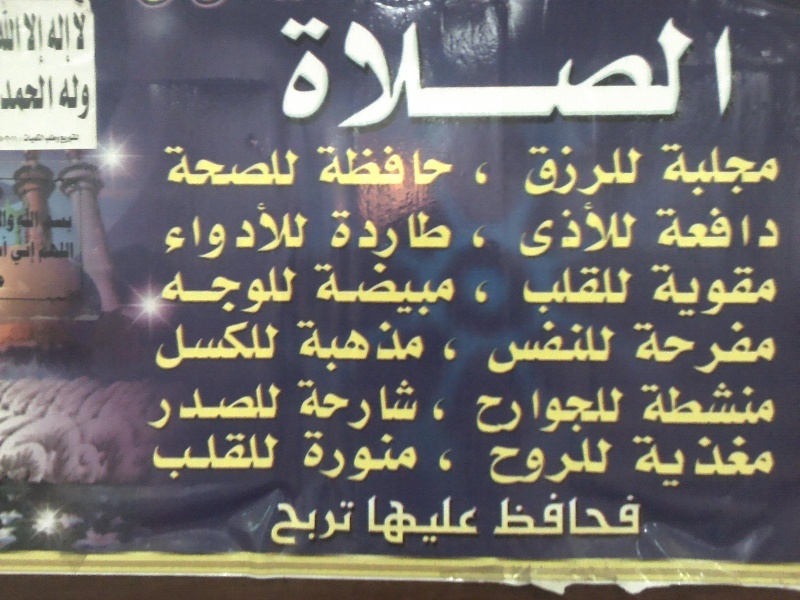text: (721, 14, 737, 132), (289, 14, 304, 132), (305, 14, 320, 132), (321, 14, 336, 132), (337, 14, 352, 132), (353, 14, 368, 132), (369, 14, 384, 132), (385, 14, 400, 132), (401, 14, 416, 132), (417, 14, 432, 132), (433, 14, 448, 132), (449, 14, 464, 132), (465, 14, 480, 132), (481, 14, 496, 132), (497, 14, 512, 132), (513, 14, 528, 132), (529, 14, 544, 132), (545, 14, 560, 132), (561, 14, 576, 132), (577, 14, 592, 132), (593, 14, 608, 132), (609, 14, 624, 132), (625, 14, 640, 132), (641, 14, 656, 132), (657, 14, 672, 132), (673, 14, 688, 132), (689, 14, 704, 132), (705, 14, 720, 132), (276, 14, 288, 132), (177, 202, 192, 264), (193, 202, 208, 264), (209, 202, 224, 264), (225, 202, 240, 264), (241, 202, 256, 264), (257, 202, 272, 264), (273, 202, 288, 264), (289, 202, 304, 264), (529, 141, 544, 201), (545, 141, 560, 201), (561, 141, 576, 201), (577, 141, 592, 201), (593, 141, 608, 201), (609, 141, 624, 201), (625, 141, 640, 201), (529, 201, 544, 261), (545, 201, 560, 261), (561, 201, 576, 261), (577, 201, 592, 261), (593, 201, 608, 261), (609, 201, 624, 261), (625, 201, 640, 261), (657, 141, 672, 198), (673, 141, 688, 198), (689, 141, 704, 198), (705, 141, 720, 198), (721, 141, 736, 198), (737, 141, 752, 198), (753, 141, 768, 198), (369, 492, 384, 549), (385, 492, 400, 549), (401, 492, 416, 549), (417, 492, 432, 549), (433, 492, 448, 549), (449, 492, 464, 549), (465, 492, 480, 549), (641, 320, 656, 377), (657, 320, 672, 377), (673, 320, 688, 377), (689, 320, 704, 377), (705, 320, 720, 377), (721, 320, 736, 377), (737, 320, 752, 377), (753, 320, 768, 377), (609, 384, 625, 436), (305, 429, 320, 484), (321, 429, 336, 484), (337, 429, 352, 484), (353, 429, 368, 484), (369, 429, 384, 484), (385, 429, 400, 484), (401, 429, 416, 484), (321, 262, 336, 317), (337, 262, 352, 317), (353, 262, 368, 317), (369, 262, 384, 317), (385, 262, 400, 317), (401, 262, 416, 317), (417, 262, 432, 317), (433, 262, 448, 317), (641, 435, 656, 490), (657, 435, 672, 490), (673, 435, 688, 490), (689, 435, 704, 490), (705, 435, 720, 490), (721, 435, 736, 490), (737, 435, 752, 490), (753, 435, 768, 490), (657, 264, 672, 319), (673, 264, 688, 319), (689, 264, 704, 319), (705, 264, 720, 319), (721, 264, 736, 319), (737, 264, 752, 319), (753, 264, 768, 319), (497, 321, 512, 375), (513, 321, 528, 375), (529, 321, 544, 375), (545, 321, 560, 375), (561, 321, 576, 375), (577, 321, 592, 375), (593, 321, 608, 375), (161, 321, 176, 374), (177, 321, 192, 374), (193, 321, 208, 374), (209, 321, 224, 374), (225, 321, 240, 374), (241, 321, 256, 374), (257, 321, 272, 374), (305, 320, 320, 373), (321, 320, 336, 373), (337, 320, 352, 373), (353, 320, 368, 373), (369, 320, 384, 373), (385, 320, 400, 373), (401, 320, 416, 373), (49, 13, 64, 66), (337, 208, 352, 260), (353, 208, 368, 260), (369, 208, 384, 260), (385, 208, 400, 260), (401, 208, 416, 260), (417, 208, 432, 260), (433, 208, 448, 260), (161, 265, 176, 317), (177, 265, 192, 317), (193, 265, 208, 317), (209, 265, 224, 317), (225, 265, 240, 317), (241, 265, 256, 317), (257, 265, 272, 317), (273, 265, 288, 317), (305, 378, 320, 430), (321, 378, 336, 430), (337, 378, 352, 430), (353, 378, 368, 430), (369, 378, 384, 430), (385, 378, 400, 430), (401, 378, 416, 430), (161, 381, 176, 433), (177, 381, 192, 433), (193, 381, 208, 433), (209, 381, 224, 433), (225, 381, 240, 433), (241, 381, 256, 433), (257, 381, 272, 433), (161, 430, 176, 482), (177, 430, 192, 482), (193, 430, 208, 482), (209, 430, 224, 482), (225, 430, 240, 482), (241, 430, 256, 482), (257, 430, 272, 482), (497, 436, 512, 488), (513, 436, 528, 488), (529, 436, 544, 488), (545, 436, 560, 488), (561, 436, 576, 488), (577, 436, 592, 488), (593, 436, 608, 488), (481, 384, 496, 436), (497, 384, 512, 436), (513, 384, 528, 436), (529, 384, 544, 436), (545, 384, 560, 436), (561, 384, 576, 436), (577, 384, 592, 436), (593, 384, 608, 436), (289, 497, 304, 547), (305, 497, 320, 547), (321, 497, 336, 547), (337, 497, 352, 547), (529, 265, 544, 315), (545, 265, 560, 315), (561, 265, 576, 315), (577, 265, 592, 315), (593, 265, 608, 315), (609, 265, 624, 315), (33, 11, 46, 68), (497, 492, 512, 540), (513, 492, 528, 540), (529, 492, 544, 540), (545, 492, 560, 540), (561, 492, 576, 540), (577, 492, 592, 540), (593, 492, 608, 540), (609, 492, 624, 540), (625, 492, 640, 540), (657, 203, 672, 251), (673, 203, 688, 251), (689, 203, 704, 251), (705, 203, 720, 251), (721, 203, 736, 251), (737, 203, 752, 251), (753, 203, 768, 251), (769, 203, 784, 251), (65, 74, 80, 122), (274, 497, 288, 547), (321, 145, 336, 191), (337, 145, 352, 191), (353, 145, 368, 191), (369, 145, 384, 191), (385, 145, 400, 191), (401, 145, 416, 191), (417, 145, 432, 191), (433, 145, 448, 191), (641, 382, 656, 428), (657, 382, 672, 428), (673, 382, 688, 428), (689, 382, 704, 428), (705, 382, 720, 428), (721, 382, 736, 428), (737, 382, 752, 428), (753, 382, 768, 428), (769, 141, 781, 198), (1, 9, 16, 54), (161, 145, 176, 188), (177, 145, 192, 188), (193, 145, 208, 188), (209, 145, 224, 188), (225, 145, 240, 188), (241, 145, 256, 188), (257, 145, 272, 188), (273, 145, 288, 188), (769, 320, 780, 377), (148, 430, 160, 482), (629, 435, 640, 490), (518, 201, 528, 261), (630, 320, 640, 377), (17, 73, 32, 111), (33, 73, 48, 111), (22, 11, 32, 68), (769, 264, 779, 319), (2, 73, 16, 111), (417, 320, 427, 373), (289, 145, 301, 188), (449, 262, 458, 317), (273, 381, 282, 433), (769, 382, 779, 428), (625, 265, 634, 315), (648, 264, 656, 319), (81, 74, 90, 122), (296, 320, 304, 373), (65, 13, 73, 66), (289, 265, 297, 317), (296, 378, 304, 430), (152, 381, 160, 433), (273, 430, 281, 482), (488, 436, 496, 488), (520, 265, 528, 315), (433, 395, 446, 425), (417, 429, 424, 484), (313, 262, 320, 317), (769, 435, 776, 490), (17, 241, 32, 266), (170, 202, 176, 264), (449, 145, 457, 191), (329, 208, 336, 260), (641, 141, 647, 201), (49, 241, 64, 265), (49, 214, 64, 237), (17, 207, 32, 230), (3, 209, 16, 234), (609, 321, 615, 375), (2, 235, 16, 258), (470, 155, 480, 187), (481, 155, 491, 187), (154, 321, 160, 374), (273, 321, 279, 374), (305, 202, 310, 264), (73, 11, 80, 52), (81, 11, 88, 52), (439, 442, 448, 472), (449, 208, 454, 260), (417, 378, 422, 430), (449, 336, 459, 361), (38, 241, 48, 265), (65, 241, 75, 265), (481, 226, 490, 252), (315, 145, 320, 191), (49, 73, 55, 111), (17, 9, 22, 54), (481, 279, 489, 305), (65, 214, 74, 237), (353, 497, 357, 547), (641, 492, 645, 540), (636, 382, 640, 428), (473, 226, 480, 252), (449, 442, 455, 472), (441, 336, 448, 361), (301, 429, 304, 484), (65, 133, 80, 144), (33, 207, 40, 230), (609, 436, 612, 488), (477, 384, 480, 436), (475, 279, 480, 305), (654, 141, 656, 198), (366, 492, 368, 549), (481, 492, 483, 549), (33, 134, 45, 143), (49, 135, 60, 144), (494, 492, 496, 540), (62, 74, 64, 122), (44, 214, 48, 237), (23, 134, 32, 143), (527, 141, 528, 201), (159, 265, 160, 317), (14, 241, 16, 266), (33, 241, 35, 266), (61, 133, 64, 144), (45, 135, 48, 144)
